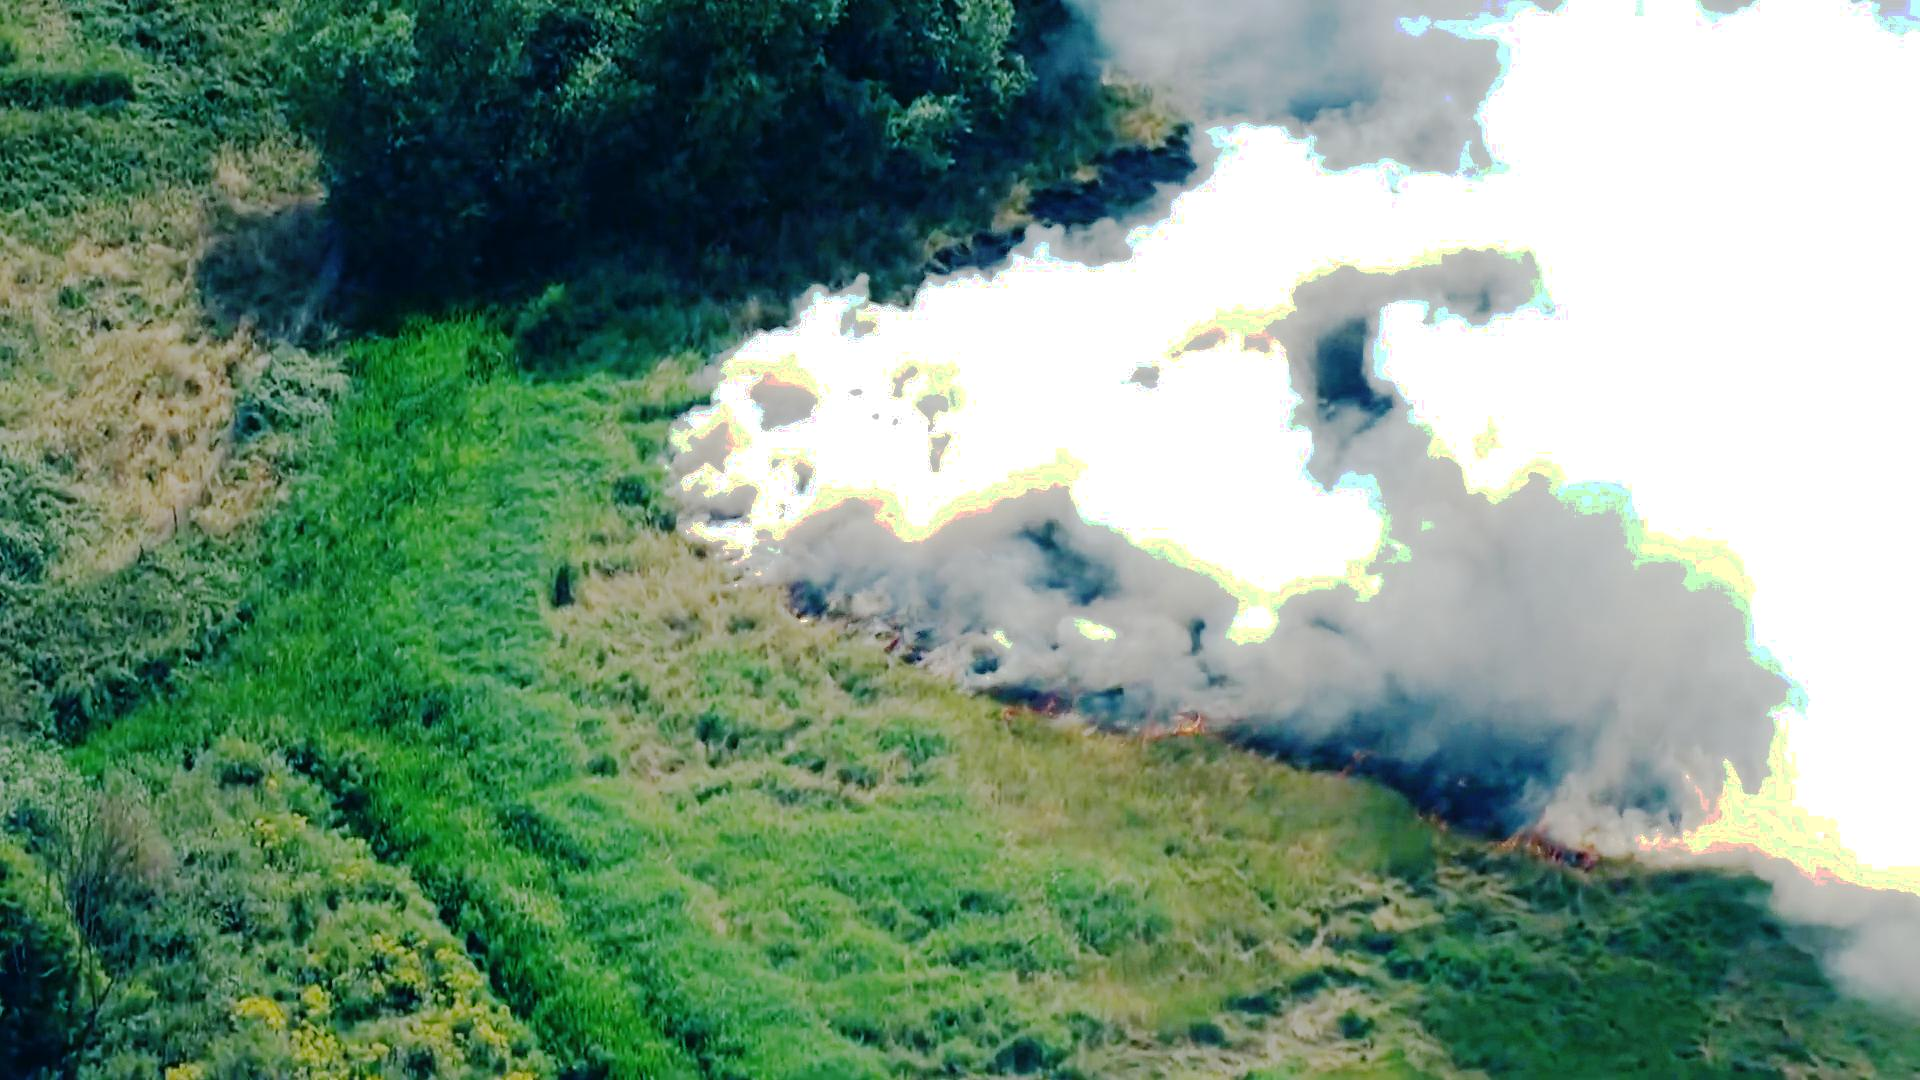smoke: (1162, 407, 1404, 678)
